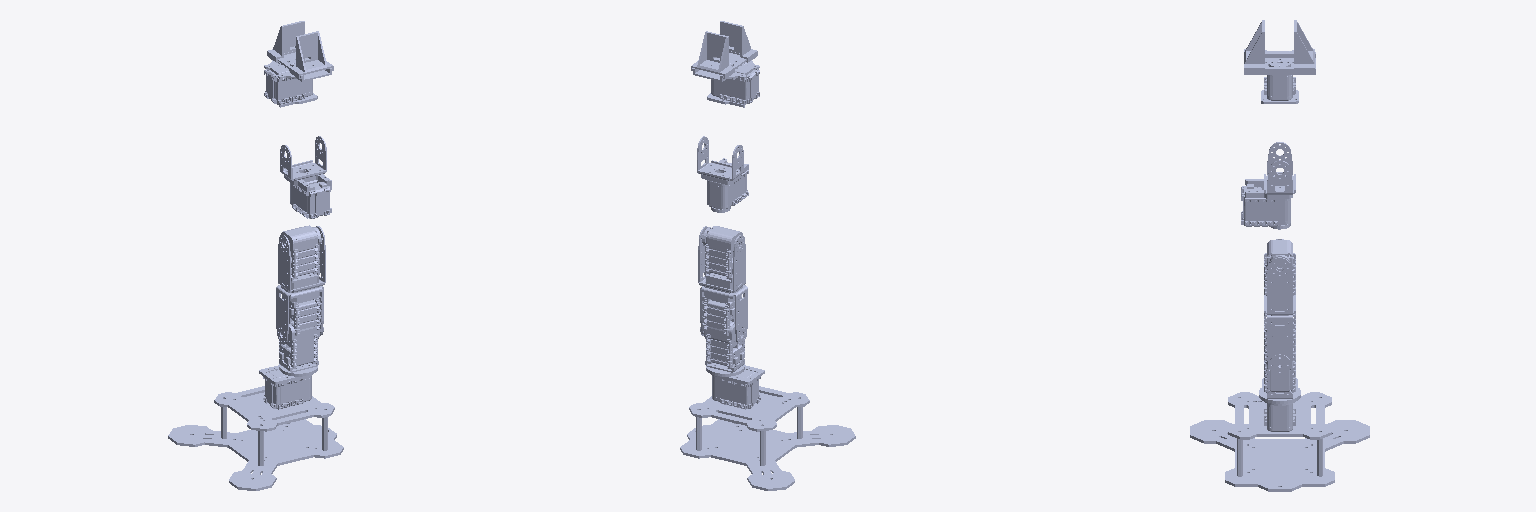
robot.urdf — phantomx_pincher_robot_arm_edited:
<robot
  name="phantomx_pincher_robot_arm_edited">
  <link
    name="base_link">
    <inertial>
      <origin
        xyz="-0.0618282643313807 -0.296075285539595 0.039178942244462"
        rpy="0 0 0" />
      <mass
        value="0.12375240123642" />
      <inertia
        ixx="0.000239123524211876"
        ixy="3.69622923513612E-08"
        ixz="-4.886863825644E-05"
        iyy="0.000274415352606526"
        iyz="-6.55559926366247E-08"
        izz="0.000260874384860992" />
    </inertial>
    <visual>
      <origin
        xyz="0 0 0"
        rpy="0 0 0" />
      <geometry>
        <mesh
          filename="package://phantomx_pincher_robot_arm_edited/meshes/base_link.STL" />
      </geometry>
      <material
        name="">
        <color
          rgba="0.792156862745098 0.819607843137255 0.933333333333333 1" />
      </material>
    </visual>
    <collision>
      <origin
        xyz="0 0 0"
        rpy="0 0 0" />
      <geometry>
        <mesh
          filename="package://phantomx_pincher_robot_arm_edited/meshes/base_link.STL" />
      </geometry>
    </collision>
  </link>
  <link
    name="arm_shoulder_pan_link">
    <inertial>
      <origin
        xyz="4.67155357021243E-05 0.00102759022626669 0.0277164698906298"
        rpy="0 0 0" />
      <mass
        value="0.0435262757095505" />
      <inertia
        ixx="1.35023324759827E-05"
        ixy="-1.19696883759781E-10"
        ixz="1.26761966152459E-08"
        iyy="1.14362384023118E-05"
        iyz="-1.36340615871051E-07"
        izz="7.01952563261261E-06" />
    </inertial>
    <visual>
      <origin
        xyz="0 0 0"
        rpy="0 0 0" />
      <geometry>
        <mesh
          filename="package://phantomx_pincher_robot_arm_edited/meshes/arm_shoulder_pan_link.STL" />
      </geometry>
      <material
        name="">
        <color
          rgba="0.792156862745098 0.819607843137255 0.933333333333333 1" />
      </material>
    </visual>
    <collision>
      <origin
        xyz="0 0 0"
        rpy="0 0 0" />
      <geometry>
        <mesh
          filename="package://phantomx_pincher_robot_arm_edited/meshes/arm_shoulder_pan_link.STL" />
      </geometry>
    </collision>
  </link>
  <joint
    name="arm_shoulder_pan_joint"
    type="fixed">
    <origin
      xyz="-0.034767 -0.2961 0.089775"
      rpy="-7.2132E-06 -6.1215E-17 -1.5708" />
    <parent
      link="base_link" />
    <child
      link="arm_shoulder_pan_link" />
    <axis
      xyz="0 0 0" />
  </joint>
  <link
    name="arm_shoulder_lift_link">
    <inertial>
      <origin
        xyz="1.62941256898197E-05 -0.00215840887952258 -0.0809626511316071"
        rpy="0 0 0" />
      <mass
        value="0.0599991472451477" />
      <inertia
        ixx="4.60424932198628E-05"
        ixy="1.46590486335229E-09"
        ixz="6.03598196047577E-09"
        iyy="4.13519414801232E-05"
        iyz="-6.85025554878965E-07"
        izz="1.1532292045134E-05" />
    </inertial>
    <visual>
      <origin
        xyz="0 0 0"
        rpy="0 0 0" />
      <geometry>
        <mesh
          filename="package://phantomx_pincher_robot_arm_edited/meshes/arm_shoulder_lift_link.STL" />
      </geometry>
      <material
        name="">
        <color
          rgba="0.792156862745098 0.819607843137255 0.933333333333333 1" />
      </material>
    </visual>
    <collision>
      <origin
        xyz="0 0 0"
        rpy="0 0 0" />
      <geometry>
        <mesh
          filename="package://phantomx_pincher_robot_arm_edited/meshes/arm_shoulder_lift_link.STL" />
      </geometry>
    </collision>
  </link>
  <joint
    name="arm_shoulder_lift_joint"
    type="continuous">
    <origin
      xyz="0 0 0.0415"
      rpy="-3.1416 1.0749E-13 -1.4901E-08" />
    <parent
      link="arm_shoulder_pan_link" />
    <child
      link="arm_shoulder_lift_link" />
    <axis
      xyz="0 -1 0" />
  </joint>
  <link
    name="arm_elbow_flex_link">
    <inertial>
      <origin
        xyz="1.62941259730931E-05 0.00207909112047516 -0.0809626511316071"
        rpy="0 0 0" />
      <mass
        value="0.0599991472451478" />
      <inertia
        ixx="4.60424932198628E-05"
        ixy="1.4659048633625E-09"
        ixz="6.03598196074492E-09"
        iyy="4.13519414801232E-05"
        iyz="-6.85025554878973E-07"
        izz="1.1532292045134E-05" />
    </inertial>
    <visual>
      <origin
        xyz="0 0 0"
        rpy="0 0 0" />
      <geometry>
        <mesh
          filename="package://phantomx_pincher_robot_arm_edited/meshes/arm_elbow_flex_link.STL" />
      </geometry>
      <material
        name="">
        <color
          rgba="0.792156862745098 0.819607843137255 0.933333333333333 1" />
      </material>
    </visual>
    <collision>
      <origin
        xyz="0 0 0"
        rpy="0 0 0" />
      <geometry>
        <mesh
          filename="package://phantomx_pincher_robot_arm_edited/meshes/arm_elbow_flex_link.STL" />
      </geometry>
    </collision>
  </link>
  <joint
    name="arm_elbow_flex_joint"
    type="continuous">
    <origin
      xyz="0 0 -0.107"
      rpy="0 0 3.1416" />
    <parent
      link="arm_shoulder_lift_link" />
    <child
      link="arm_elbow_flex_link" />
    <axis
      xyz="0 1 0" />
  </joint>
  <link
    name="arm_wrist_flex_link">
    <inertial>
      <origin
        xyz="-0.0107763710729797 0.00137651469054666 -0.0439114810403849"
        rpy="0 0 0" />
      <mass
        value="0.0513446164144625" />
      <inertia
        ixx="1.44691821042291E-05"
        ixy="-1.52483151027995E-08"
        ixz="-1.87158138483963E-06"
        iyy="1.96407790097057E-05"
        iyz="-1.41617463060133E-09"
        izz="1.43564370654436E-05" />
    </inertial>
    <visual>
      <origin
        xyz="0 0 0"
        rpy="0 0 0" />
      <geometry>
        <mesh
          filename="package://phantomx_pincher_robot_arm_edited/meshes/arm_wrist_flex_link.STL" />
      </geometry>
      <material
        name="">
        <color
          rgba="0.792156862745098 0.819607843137255 0.933333333333333 1" />
      </material>
    </visual>
    <collision>
      <origin
        xyz="0 0 0"
        rpy="0 0 0" />
      <geometry>
        <mesh
          filename="package://phantomx_pincher_robot_arm_edited/meshes/arm_wrist_flex_link.STL" />
      </geometry>
    </collision>
  </link>
  <joint
    name="arm_wrist_flex_joint"
    type="continuous">
    <origin
      xyz="0 0 -0.107"
      rpy="0 0 0" />
    <parent
      link="arm_elbow_flex_link" />
    <child
      link="arm_wrist_flex_link" />
    <axis
      xyz="0 1 0" />
  </joint>
  <link
    name="arm_wrist_revol_link">
    <inertial>
      <origin
        xyz="-0.0108034643995525 3.00408162451915E-05 0.0211998773417275"
        rpy="0 0 0" />
      <mass
        value="0.0518984073943084" />
      <inertia
        ixx="1.34700180494404E-05"
        ixy="1.72078044521247E-08"
        ixz="-8.87346267942531E-07"
        iyy="1.80627817124038E-05"
        iyz="1.00091470874464E-09"
        izz="1.6852540385081E-05" />
    </inertial>
    <visual>
      <origin
        xyz="0 0 0"
        rpy="0 0 0" />
      <geometry>
        <mesh
          filename="package://phantomx_pincher_robot_arm_edited/meshes/arm_wrist_revol_link.STL" />
      </geometry>
      <material
        name="">
        <color
          rgba="0.792156862745098 0.819607843137255 0.933333333333333 1" />
      </material>
    </visual>
    <collision>
      <origin
        xyz="0 0 0"
        rpy="0 0 0" />
      <geometry>
        <mesh
          filename="package://phantomx_pincher_robot_arm_edited/meshes/arm_wrist_revol_link.STL" />
      </geometry>
    </collision>
  </link>
  <joint
    name="arm_wrist_revol_joint"
    type="continuous">
    <origin
      xyz="-0.00025427 0.0014125 -0.06645"
      rpy="3.1416 0 1.5708" />
    <parent
      link="arm_wrist_flex_link" />
    <child
      link="arm_wrist_revol_link" />
    <axis
      xyz="0 0 1" />
  </joint>
  <link
    name="gripper_link">
    <inertial>
      <origin
        xyz="-1.66394675815695E-14 0.00024722153600687 0.0112693127189871"
        rpy="0 0 0" />
      <mass
        value="0.0130133548448738" />
      <inertia
        ixx="8.21720189689182E-06"
        ixy="3.24864393107223E-16"
        ixz="-7.74185429600701E-22"
        iyy="3.35122660436342E-06"
        iyz="1.39107760490872E-21"
        izz="8.28304229071313E-06" />
    </inertial>
    <visual>
      <origin
        xyz="0 0 0"
        rpy="0 0 0" />
      <geometry>
        <mesh
          filename="package://phantomx_pincher_robot_arm_edited/meshes/gripper_link.STL" />
      </geometry>
      <material
        name="">
        <color
          rgba="0.792156862745098 0.819607843137255 0.933333333333333 1" />
      </material>
    </visual>
    <collision>
      <origin
        xyz="0 0 0"
        rpy="0 0 0" />
      <geometry>
        <mesh
          filename="package://phantomx_pincher_robot_arm_edited/meshes/gripper_link.STL" />
      </geometry>
    </collision>
  </link>
  <joint
    name="gripper_joint"
    type="prismatic">
    <origin
      xyz="0.00015 0 0.042144"
      rpy="0 0 3.1416" />
    <parent
      link="arm_wrist_revol_link" />
    <child
      link="gripper_link" />
    <axis
      xyz="0 1 0" />
    <limit
      lower="0"
      upper="0.034"
      effort="0"
      velocity="0" />
  </joint>
</robot>

--- What the picture shows (computed from the rendered views, not written in the file) ---
The picture shows the robot from 3 angles, left to right: view 1: azimuth 30°, elevation 25°; view 2: azimuth 150°, elevation 25°; view 3: azimuth 270°, elevation 25°; orthographic projection.
Model phantomx_pincher_robot_arm_edited with 7 links and 6 joints (4 continuous, 1 prismatic, 1 fixed), rooted at base_link, posed all joints at 0.
Links seen in each view (by area): view 1: base_link, arm_shoulder_lift_link, arm_wrist_flex_link, arm_elbow_flex_link, gripper_link, arm_wrist_revol_link, arm_shoulder_pan_link; view 2: base_link, arm_shoulder_lift_link, arm_wrist_flex_link, arm_elbow_flex_link, gripper_link, arm_wrist_revol_link, arm_shoulder_pan_link; view 3: base_link, arm_wrist_flex_link, arm_elbow_flex_link, arm_shoulder_lift_link, arm_wrist_revol_link, gripper_link, arm_shoulder_pan_link.
Link boxes in pixels (<box>): base_link: <box>168,364,343,490</box>; arm_shoulder_lift_link: <box>276,225,323,344</box>; arm_wrist_flex_link: <box>280,136,331,218</box>; arm_elbow_flex_link: <box>278,226,325,342</box>; gripper_link: <box>267,21,333,78</box>; arm_wrist_revol_link: <box>264,52,332,107</box>; arm_shoulder_pan_link: <box>279,324,320,372</box>; base_link: <box>680,364,855,490</box>; arm_shoulder_lift_link: <box>700,226,747,344</box>; arm_wrist_flex_link: <box>697,136,748,212</box>; arm_elbow_flex_link: <box>698,226,745,343</box>; gripper_link: <box>691,21,757,78</box>; arm_wrist_revol_link: <box>692,53,759,107</box>; arm_shoulder_pan_link: <box>703,324,744,372</box>; base_link: <box>1190,378,1369,491</box>; arm_wrist_flex_link: <box>1241,142,1295,229</box>; arm_elbow_flex_link: <box>1264,239,1295,374</box>; arm_shoulder_lift_link: <box>1264,240,1295,372</box>; arm_wrist_revol_link: <box>1244,50,1315,103</box>; gripper_link: <box>1244,20,1314,72</box>; arm_shoulder_pan_link: <box>1264,360,1295,398</box>.
Bounding box of the posed robot: 0.161 × 0.1792 × 0.496 m (x, y, z).
7 mesh visuals loaded from 7 distinct referenced files (7 binary STL).